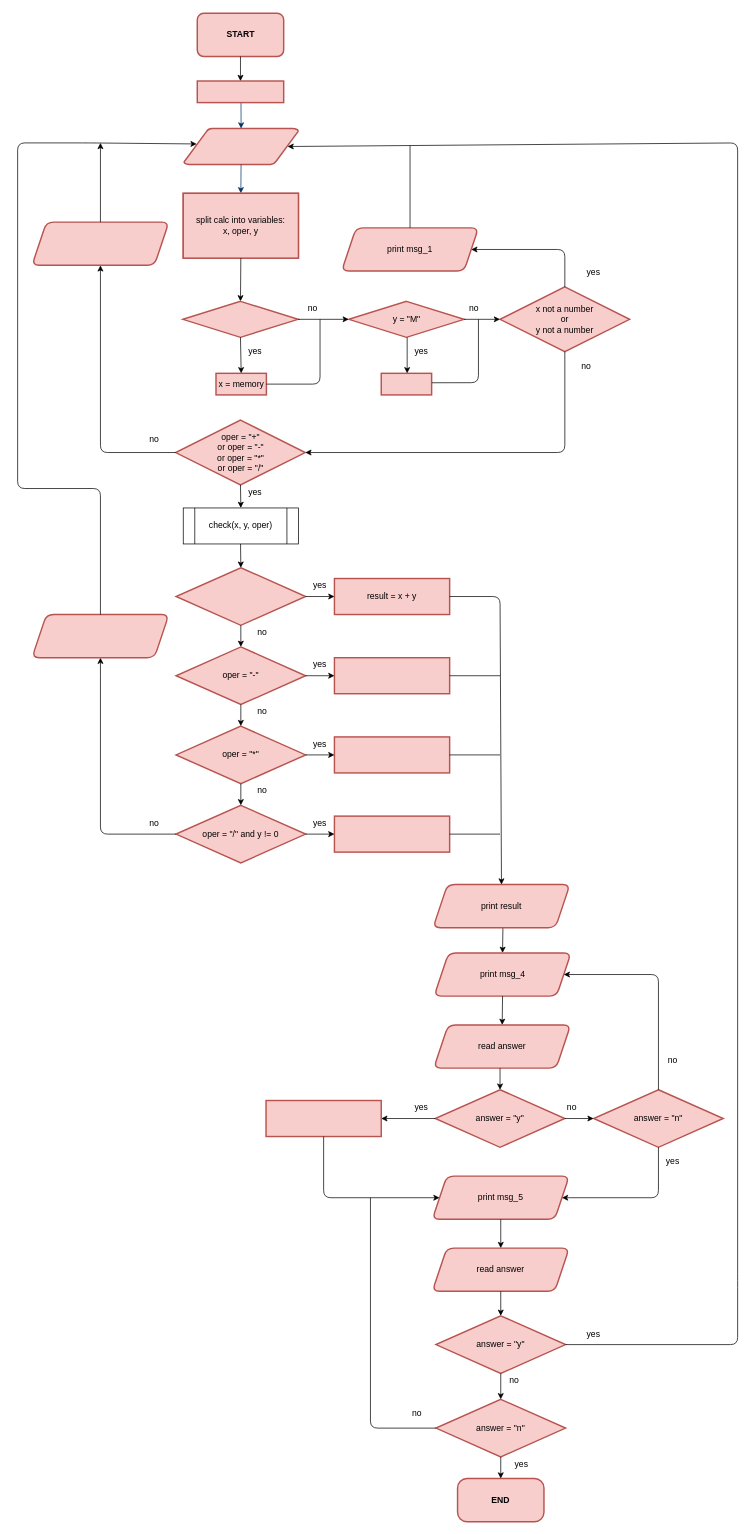
This 756x1534 diagram has some shape labels left out. The shapes that lost their labels are listed below. From the top down, each one's box as (x1, y1, x2, y2) in pixels, then its label:
(196, 80, 284, 103): memory = 0
(183, 127, 299, 165): print msg_0 read calc
(31, 221, 169, 266): print msg_2
(182, 300, 298, 338): x = "M"
(380, 372, 432, 395): y = memory
(175, 567, 306, 626): oper = "+"
(31, 613, 169, 658): print msg_3
(333, 657, 450, 694): result = x - y
(333, 736, 450, 773): result = x * y
(333, 815, 450, 852): result = x / y
(265, 1099, 382, 1137): memory = result
